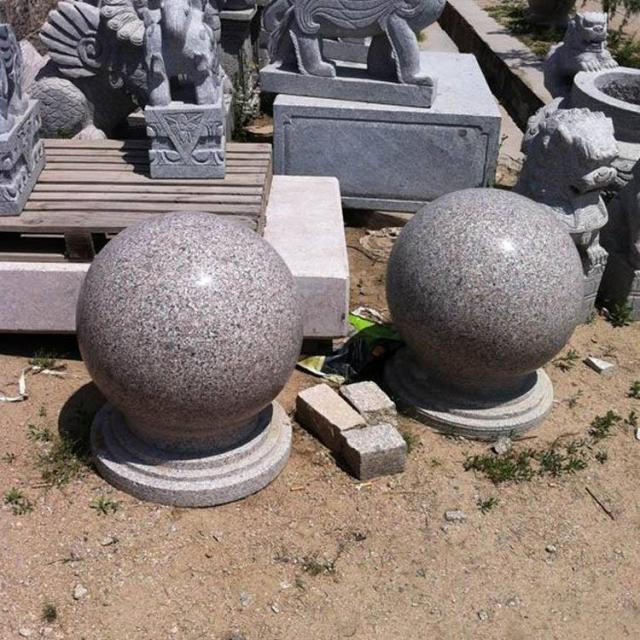spherical_roadblock: (69, 207, 301, 506), (382, 181, 584, 436)
